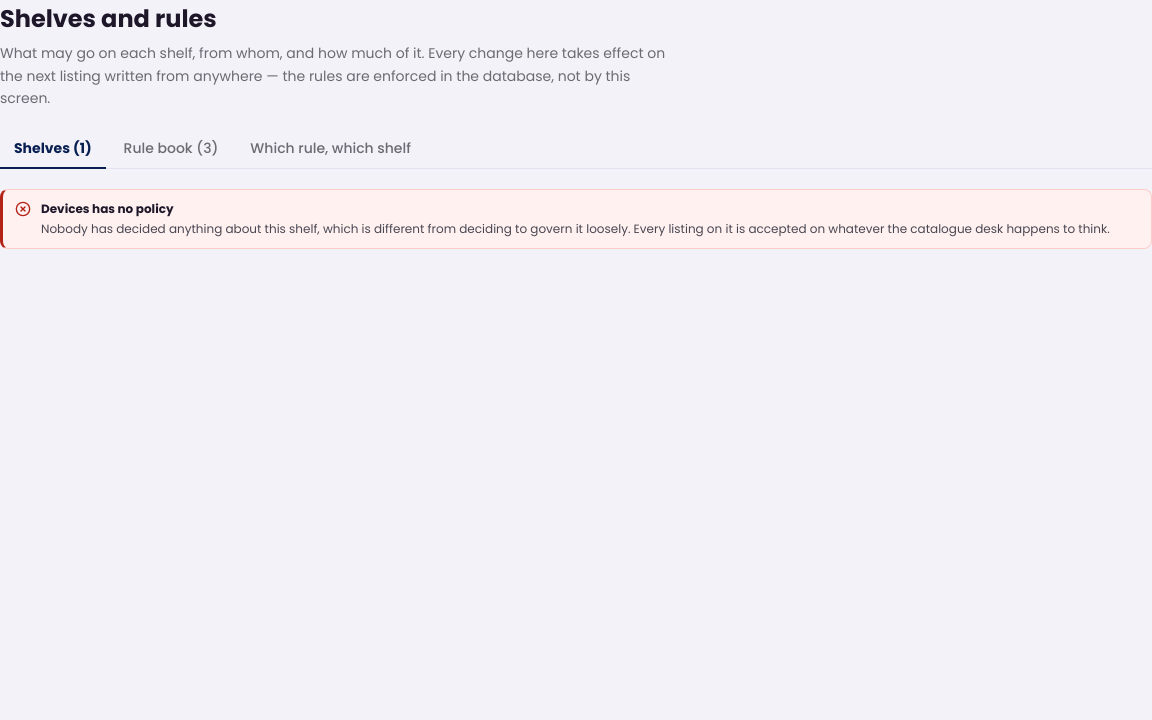
Test: the rule book › retires an applied rule through the repo, saying which shelves it leaves
Later steps or results of the test are not shown.
Click the button "Rule book (3)" at (171, 149), box 110,130 -> 232,169
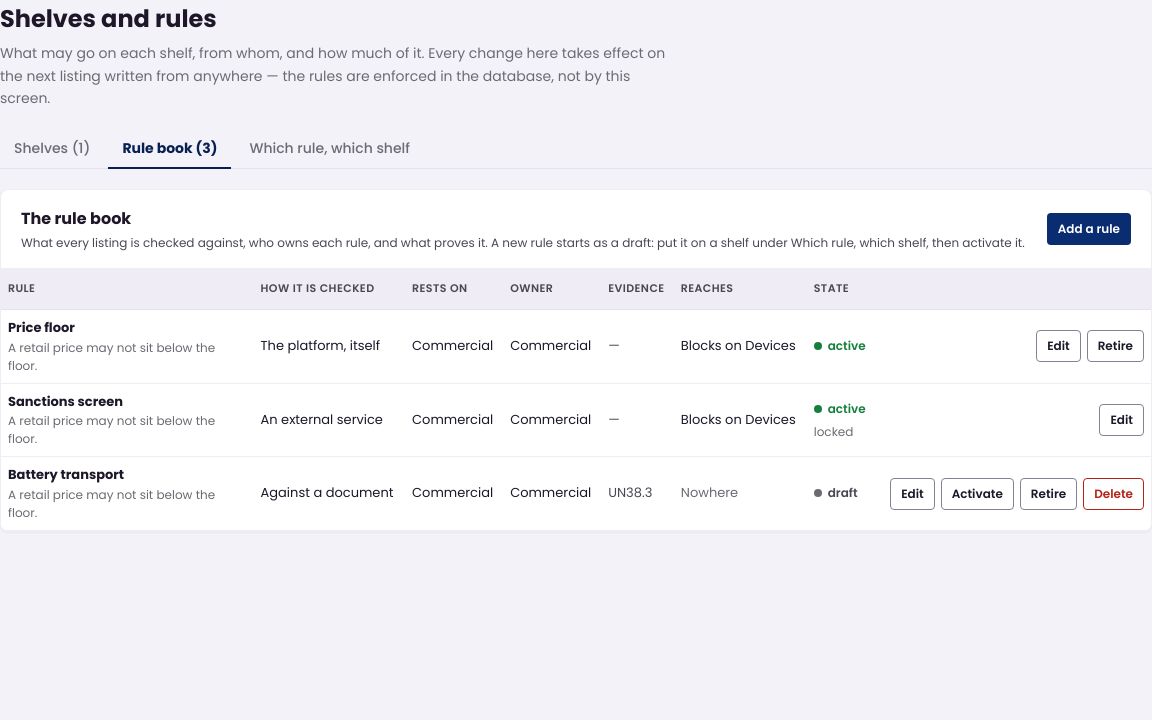
Click the button with aria-label "Retire Price floor" at (1115, 346), box 1087,330 -> 1144,362
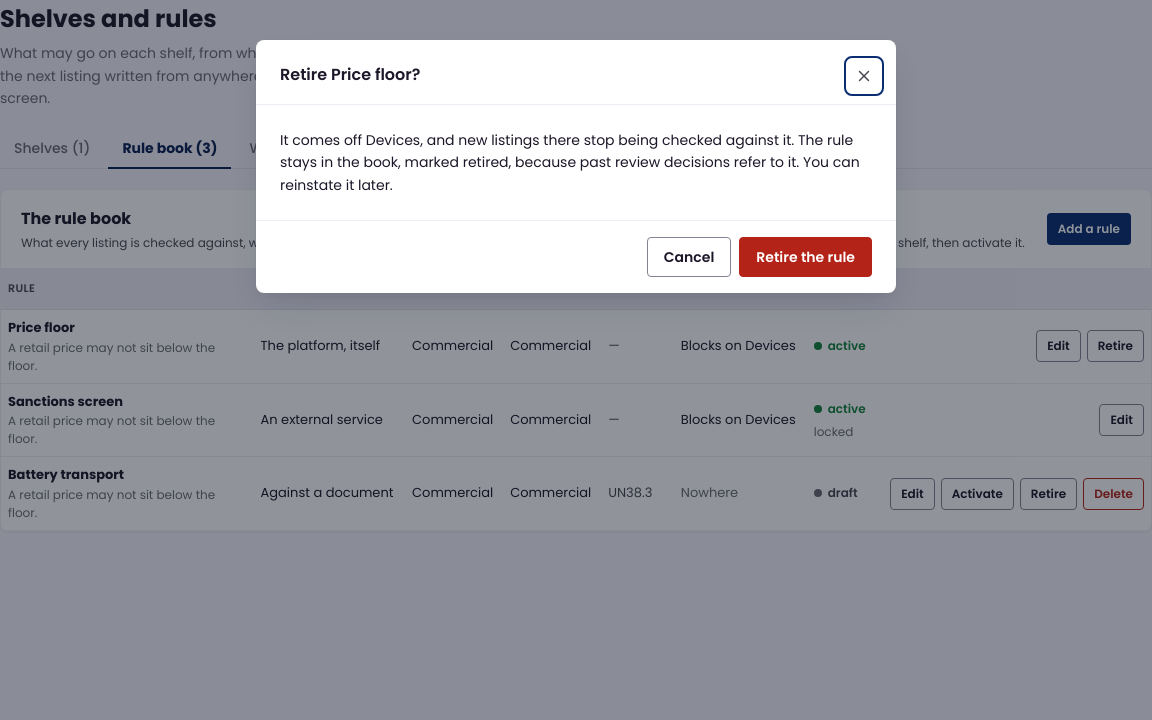
Now the text "comes off Devices" is shown, box 280,129 -> 872,196
